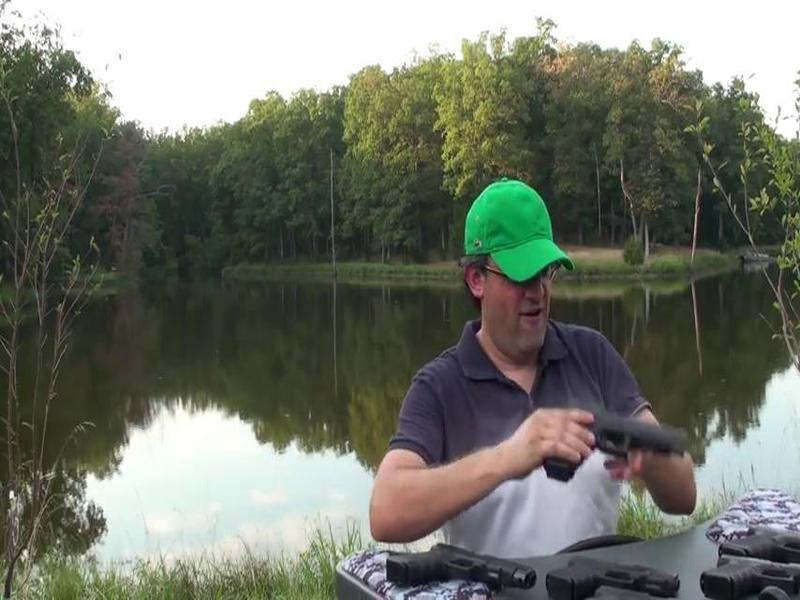Pistola: (534, 383, 727, 505)
